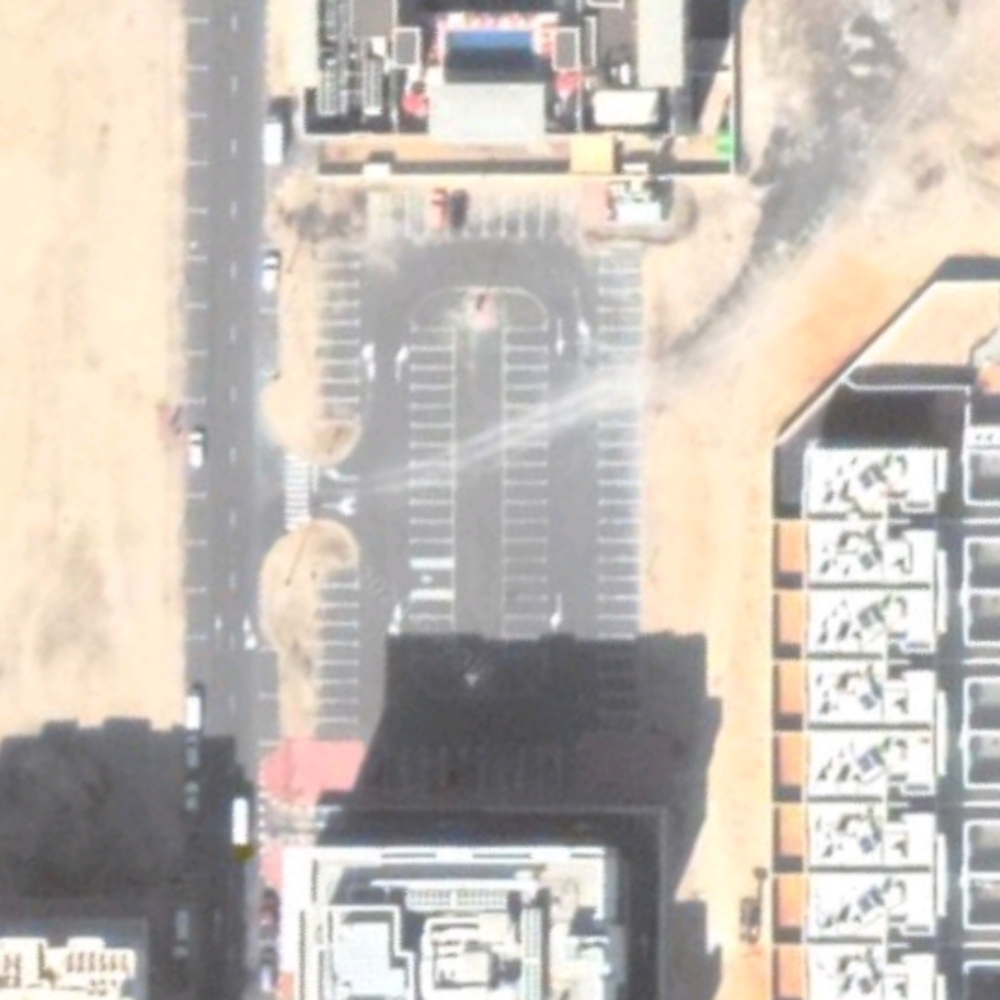parking: (310, 180, 640, 805)
